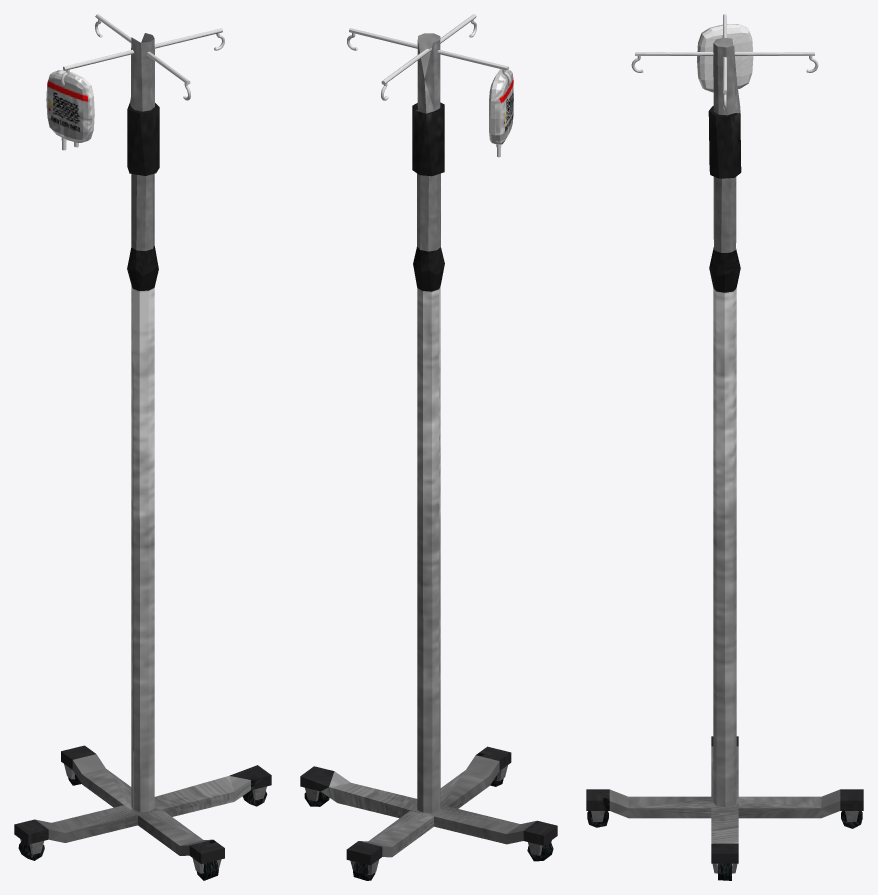
The model's file is SORO_NO_SUPORTE.fbx.
The picture shows the model from 3 angles, left to right: view 1: azimuth 30°, elevation 25°; view 2: azimuth 150°, elevation 25°; view 3: azimuth 270°, elevation 25°; orthographic projection.
Parts seen in each view (by area): view 1: Meio, Rodinhas, Bisnaga, Aro1, Aro2; view 2: Meio, Rodinhas, Bisnaga, Aro1, Aro2; view 3: Meio, Rodinhas, Bisnaga, Aro2.
Part boxes in pixels (<box>): Meio: <box>127,33,159,812</box>; Rodinhas: <box>14,745,271,880</box>; Bisnaga: <box>46,70,94,150</box>; Aro1: <box>61,28,224,85</box>; Aro2: <box>95,14,190,100</box>; Meio: <box>412,33,444,813</box>; Rodinhas: <box>300,746,557,880</box>; Bisnaga: <box>489,69,513,157</box>; Aro1: <box>347,28,510,85</box>; Aro2: <box>381,14,476,100</box>; Meio: <box>708,37,741,807</box>; Rodinhas: <box>586,736,863,880</box>; Bisnaga: <box>697,24,753,92</box>; Aro2: <box>631,52,818,72</box>.
Size of the model in its own units: 92.93 by 290 by 92.93.
4 materials, 4 textured.
